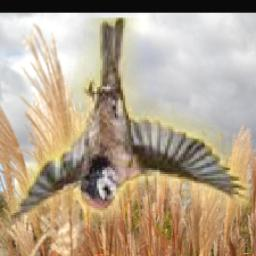Sparrow: (0, 19, 250, 256)
